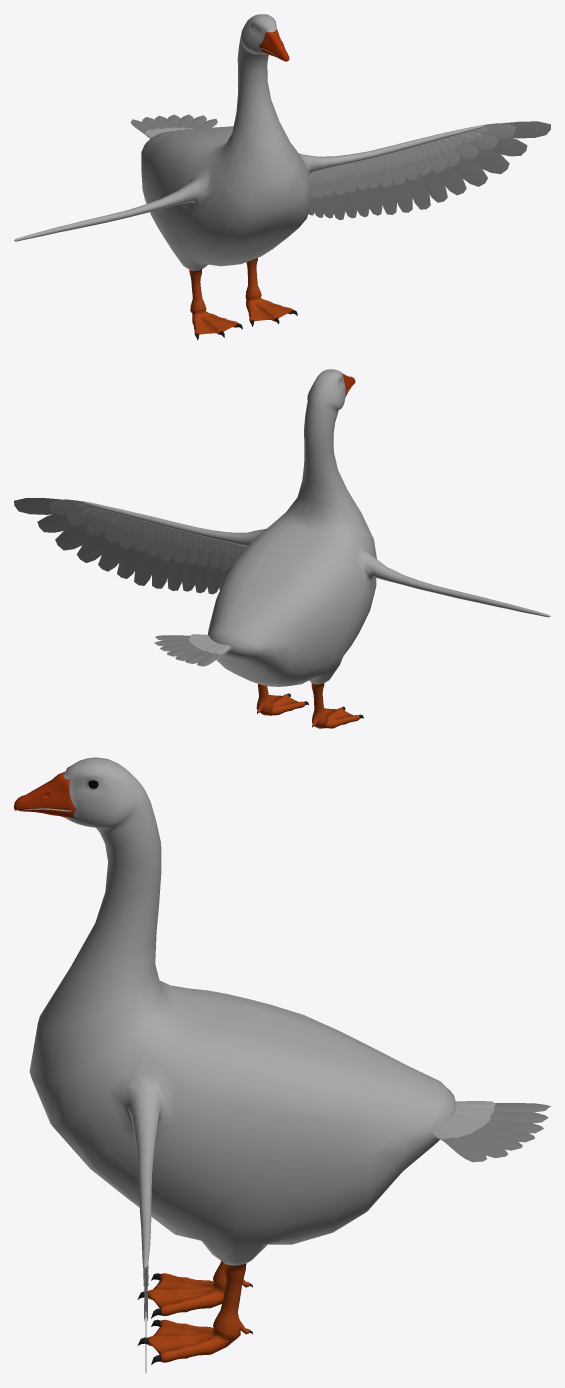
Rendered from goose.obj.
3 renders of one model, top to bottom at view 1: azimuth 30°, elevation 25°; view 2: azimuth 150°, elevation 25°; view 3: azimuth 270°, elevation 25°, orthographic. The views are drawn at different scales.
Parts seen in each view (by area): view 1: goose, feather_flight_primary_014, feather_flight_primary_016, feather_flight_primary_013, feather_flight_primary_010, feather_flight_primary_011, feather_flight_primary_012, feather_flight_primary_015, feather_flight_primary_009, feather_flight_primary_008; view 2: goose, feather_flight_primary_014, feather_flight_primary_013, feather_flight_primary_016, feather_flight_primary_010, feather_flight_primary_011, feather_flight_primary_012, feather_flight_primary_015, feather_flight_primary_009; view 3: goose.
Part boxes in pixels (x1=…): goose: x1=14, y1=14, x2=484, y2=340; feather_flight_primary_014: x1=469, y1=148, x2=509, y2=173; feather_flight_primary_016: x1=494, y1=121, x2=550, y2=138; feather_flight_primary_013: x1=452, y1=156, x2=487, y2=186; feather_flight_primary_010: x1=406, y1=174, x2=430, y2=209; feather_flight_primary_011: x1=421, y1=168, x2=447, y2=202; feather_flight_primary_012: x1=437, y1=164, x2=466, y2=195; feather_flight_primary_015: x1=488, y1=138, x2=527, y2=156; feather_flight_primary_009: x1=393, y1=177, x2=412, y2=212; feather_flight_primary_008: x1=380, y1=181, x2=397, y2=214; goose: x1=81, y1=369, x2=550, y2=728; feather_flight_primary_014: x1=55, y1=524, x2=105, y2=550; feather_flight_primary_013: x1=76, y1=532, x2=115, y2=562; feather_flight_primary_016: x1=14, y1=498, x2=63, y2=514; feather_flight_primary_010: x1=134, y1=550, x2=159, y2=585; feather_flight_primary_011: x1=117, y1=544, x2=145, y2=578; feather_flight_primary_012: x1=98, y1=541, x2=130, y2=571; feather_flight_primary_015: x1=37, y1=514, x2=81, y2=532; feather_flight_primary_009: x1=152, y1=554, x2=172, y2=588; goose: x1=14, y1=757, x2=456, y2=1364.
Size of the model in its own units: 1.47 by 0.8488 by 0.7325.
